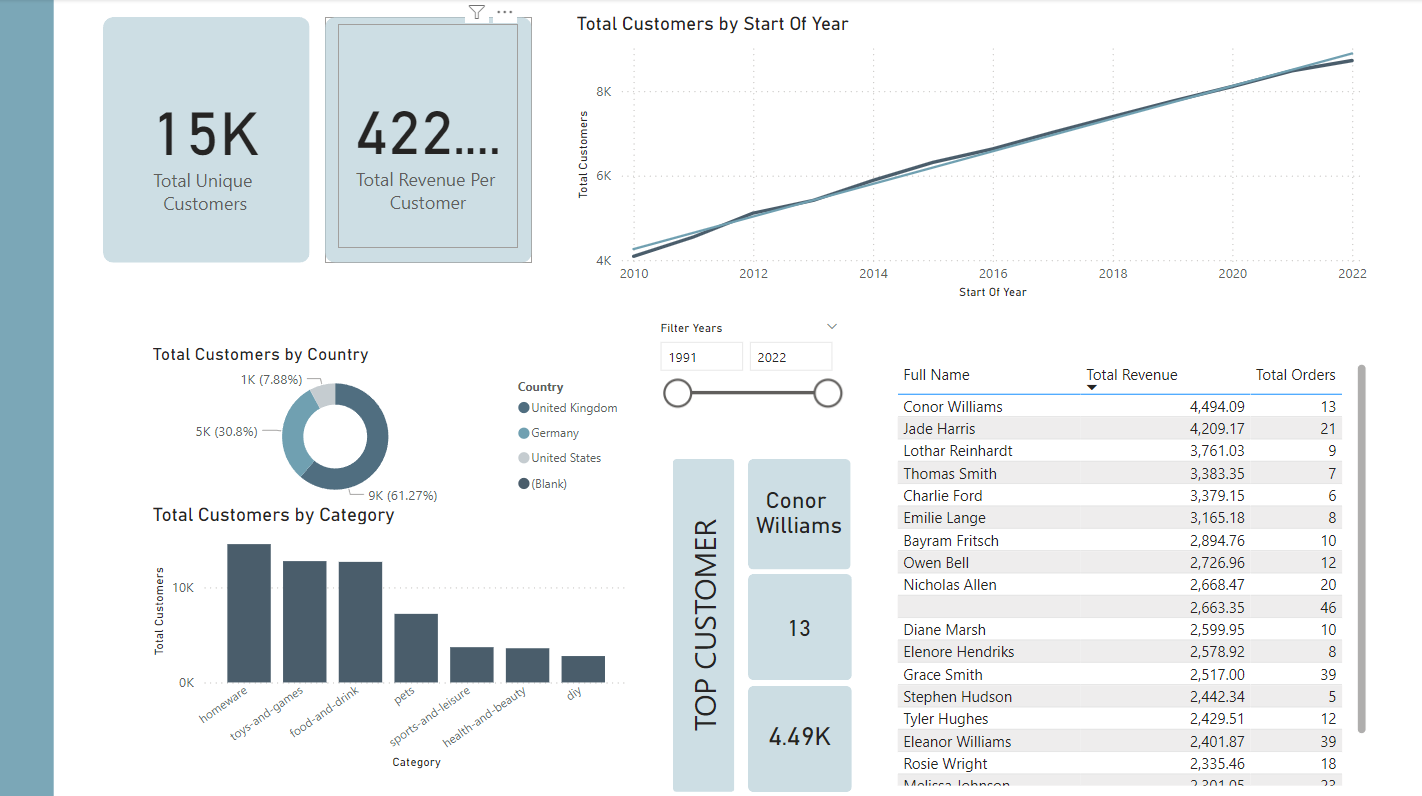

The page's visual inventory and layout, read from the dashboard file:
{"tool":"powerbi","page":{"name":"Customer Detail","canvas":[1280,720],"ordinal":1},"visuals":[{"type":"shape","box":[293.2,16,185.1,220.2],"z":0},{"type":"shape","box":[0,0,49.9,720.3],"z":1000},{"type":"shape","box":[94.1,16,185.1,220.2],"z":2000},{"type":"card","fields":{"Values":["Measures Table.Total Customers"]},"box":[107.1,24,156.1,199.2],"z":3000},{"type":"card","fields":{"Values":["Measures Table.Total Revenue Per Customer"]},"box":[305.2,22,161.1,201.2],"z":4000},{"type":"donutChart","fields":{"Y":["Measures Table.Total Customers"],"Category":["Customers.Country"]},"box":[133.4,308.1,436.1,149.6],"z":5000},{"type":"columnChart","fields":{"Category":["Products.Category"],"Y":["Measures Table.Total Customers"]},"box":[133.4,451.3,436.1,242.7],"z":6000},{"type":"lineChart","fields":{"Y":["Measures Table.Total Customers"],"Category":["Dates.Date Hierarchy.Start Of Year","Dates.Date Hierarchy.Start Of Quarter","Dates.Date Hierarchy.Start Of Month","Dates.Date Hierarchy.Start Of Week","Dates.Date Hierarchy.Date"]},"box":[513.4,12,717.6,261.2],"z":7000},{"type":"tableEx","fields":{"Values":["Customers.Full Name","Measures Table.Total Orders","Measures Table.Total Revenue"]},"box":[800.1,321.2,431,388.1],"z":8000},{"type":"shape","box":[671.5,412.3,92.1,99.1],"z":9000},{"type":"shape","box":[671.5,515.4,93.1,95.1],"z":10000},{"type":"shape","box":[671.5,615.5,93,95],"z":11000},{"type":"card","fields":{"Values":["Customers.Full Name"]},"box":[670.5,412.3,93.1,95],"z":12000},{"type":"card","title":"Orders","fields":{"Values":["Measures Table.Total Orders"]},"box":[670.5,527.4,93.1,83.1],"z":13000},{"type":"card","fields":{"Values":["Measures Table.Total Revenue"]},"box":[677.5,610.5,80.1,99.1],"z":14000},{"type":"shape","box":[604.5,412.3,55,298.2],"z":15000},{"type":"slicer","fields":{"Values":["Dates.Year"]},"box":[580.5,283.2,184.1,92.1],"z":15001}]}

Visuals, with their boxes in screenshot pixels (x1, y1, x2, y2), scaled from the page's 1280x720 canvas onto the 1422x796 screenshot:
shape: <box>326,18,531,261</box>
shape: <box>0,0,55,795</box>
shape: <box>105,18,310,261</box>
card - Measures Table.Total Customers: <box>119,27,292,247</box>
card - Measures Table.Total Revenue Per Customer: <box>339,24,518,247</box>
donutChart - Measures Table.Total Customers x Customers.Country: <box>148,341,633,506</box>
columnChart - Products.Category x Measures Table.Total Customers: <box>148,499,633,767</box>
lineChart - Measures Table.Total Customers x Dates.Date Hierarchy.Start Of Year: <box>570,13,1368,302</box>
tableEx - Customers.Full Name x Measures Table.Total Orders: <box>889,355,1368,784</box>
shape: <box>746,456,848,565</box>
shape: <box>746,570,849,675</box>
shape: <box>746,680,849,785</box>
card - Customers.Full Name: <box>745,456,848,561</box>
"Orders" card: <box>745,583,848,675</box>
card - Measures Table.Total Revenue: <box>753,675,842,785</box>
shape: <box>672,456,733,785</box>
slicer - Dates.Year: <box>645,313,849,415</box>
